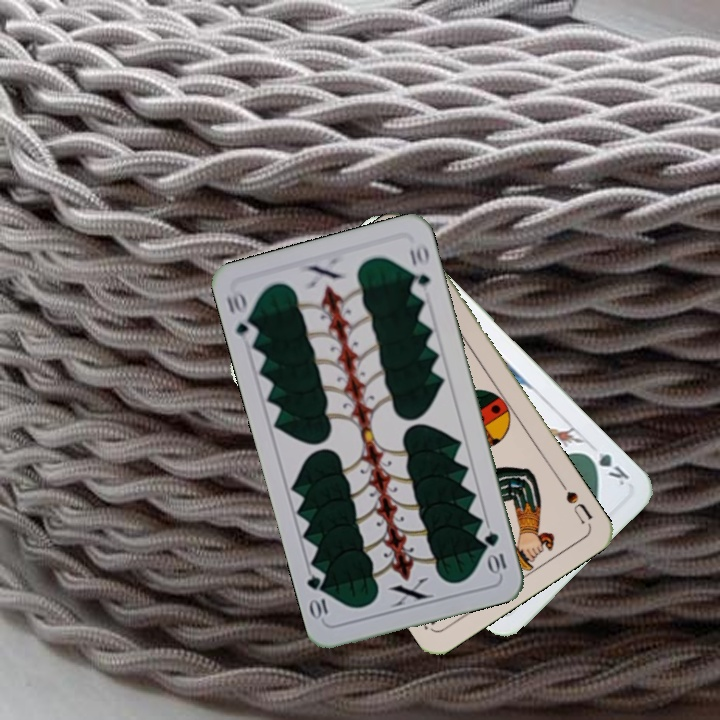G10: (222, 287, 261, 346), (480, 527, 509, 577)
GK: (580, 444, 632, 488)
SU: (555, 475, 595, 528)
